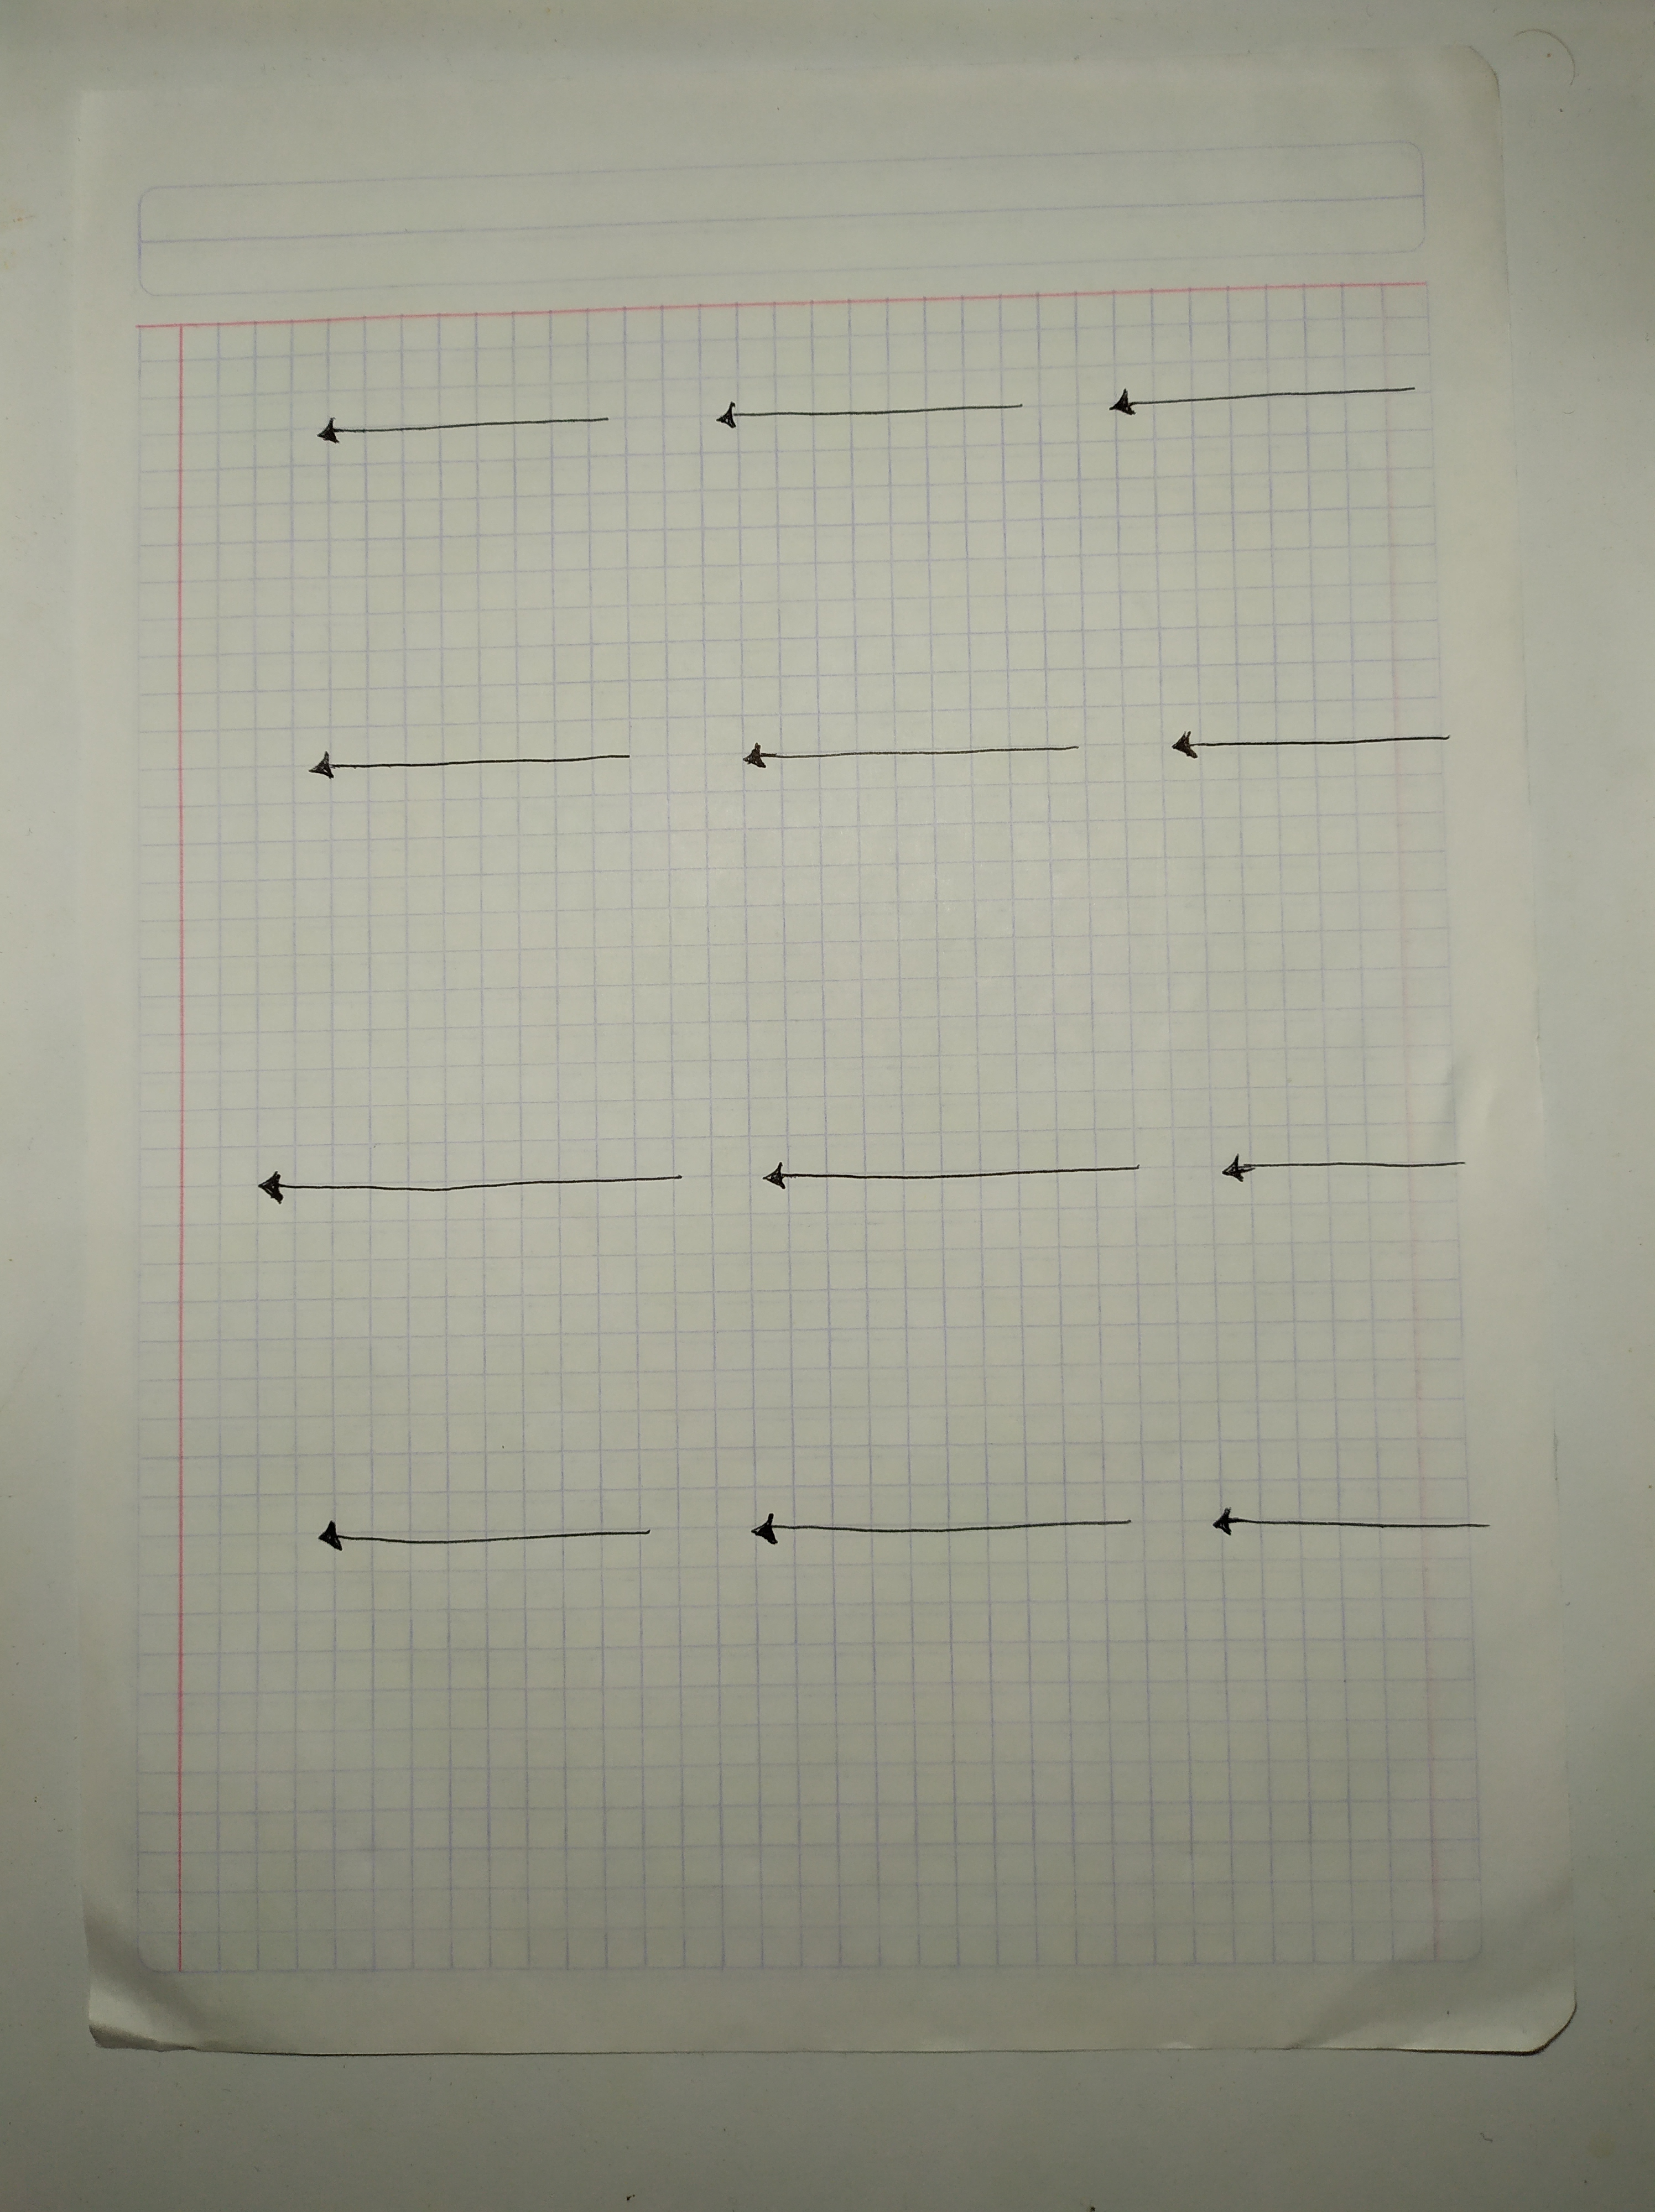arrow_line_left: (229, 1150, 709, 1229), (1092, 368, 1467, 467), (730, 1486, 1160, 1571), (283, 1493, 688, 1581), (690, 379, 1055, 471), (292, 389, 629, 474), (289, 735, 659, 808), (716, 730, 1102, 799), (742, 1143, 1168, 1206), (1189, 1491, 1516, 1567), (1146, 721, 1466, 785), (1201, 1142, 1495, 1204)
